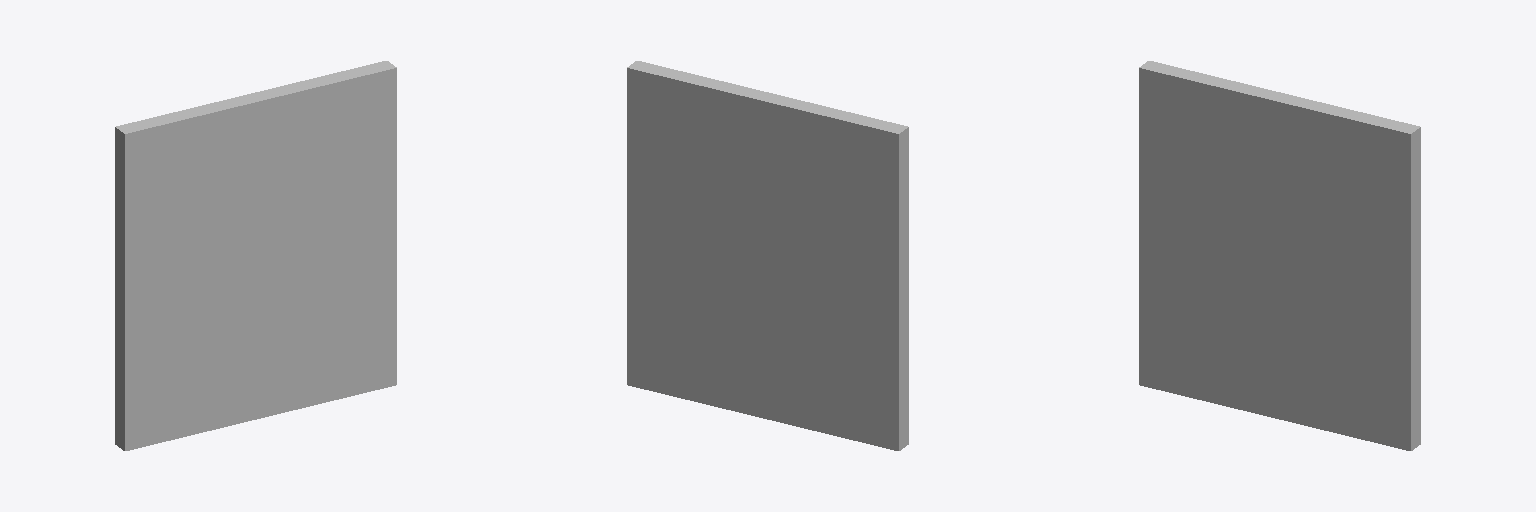
The model's file is MuroSegreto.obj.
The picture shows the model from 3 angles: view 1: azimuth 30°, elevation 25°; view 2: azimuth 150°, elevation 25°; view 3: azimuth 330°, elevation 25°; orthographic projection.
Visible parts, largest first — view 1: MuroArmadioGrievole; view 2: MuroArmadioGrievole; view 3: MuroArmadioGrievole.
Boxes of the visible parts, box(x1,y1,x2,y2) form: MuroArmadioGrievole: box(115, 61, 396, 450); MuroArmadioGrievole: box(627, 61, 908, 450); MuroArmadioGrievole: box(1139, 61, 1420, 450).
Size of the model in its own units: 3.11 by 3.47 by 0.2.